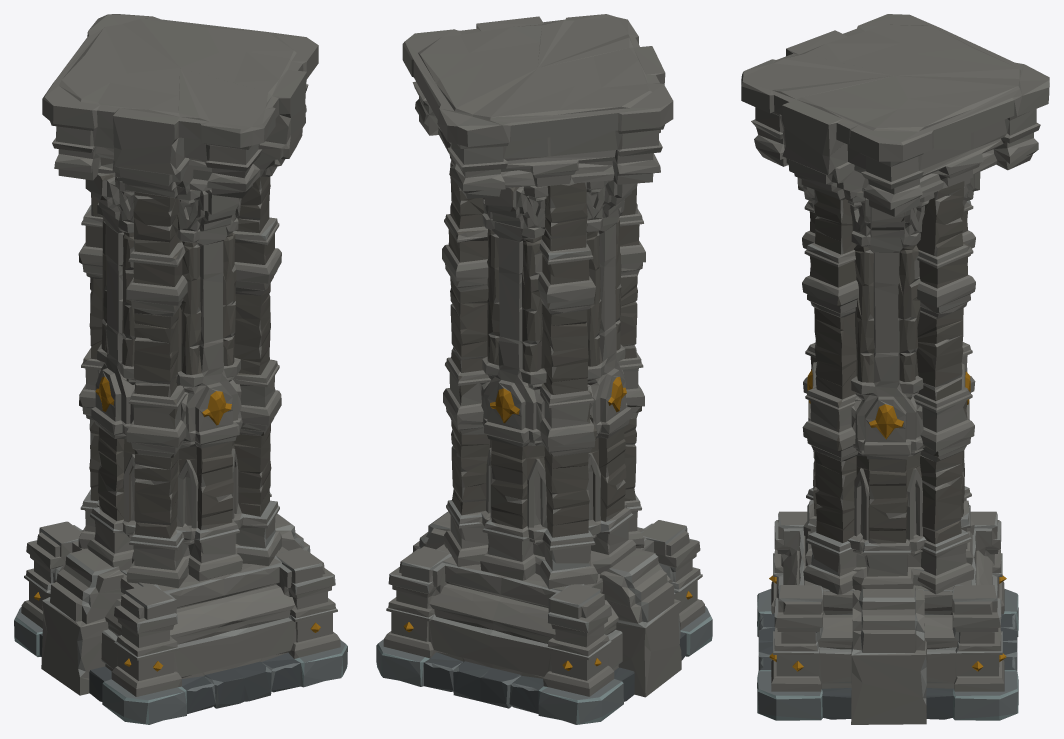
Rendered from MDungeons_PillarTall_Med_01.FBX.
3 renders of one model, left to right at view 1: azimuth 30°, elevation 25°; view 2: azimuth 150°, elevation 25°; view 3: azimuth 270°, elevation 25°, orthographic.
Visible parts, largest first — view 1: MDungeons_PillarTall_Med_01_LOD0; view 2: MDungeons_PillarTall_Med_01_LOD0; view 3: MDungeons_PillarTall_Med_01_LOD0.
Boxes of the visible parts, <box> form: MDungeons_PillarTall_Med_01_LOD0: <box>14,14,347,724</box>; MDungeons_PillarTall_Med_01_LOD0: <box>376,14,712,724</box>; MDungeons_PillarTall_Med_01_LOD0: <box>741,14,1049,724</box>.
Size of what is drawn, in the model's own units: 7.16 by 15.31 by 7.21.
